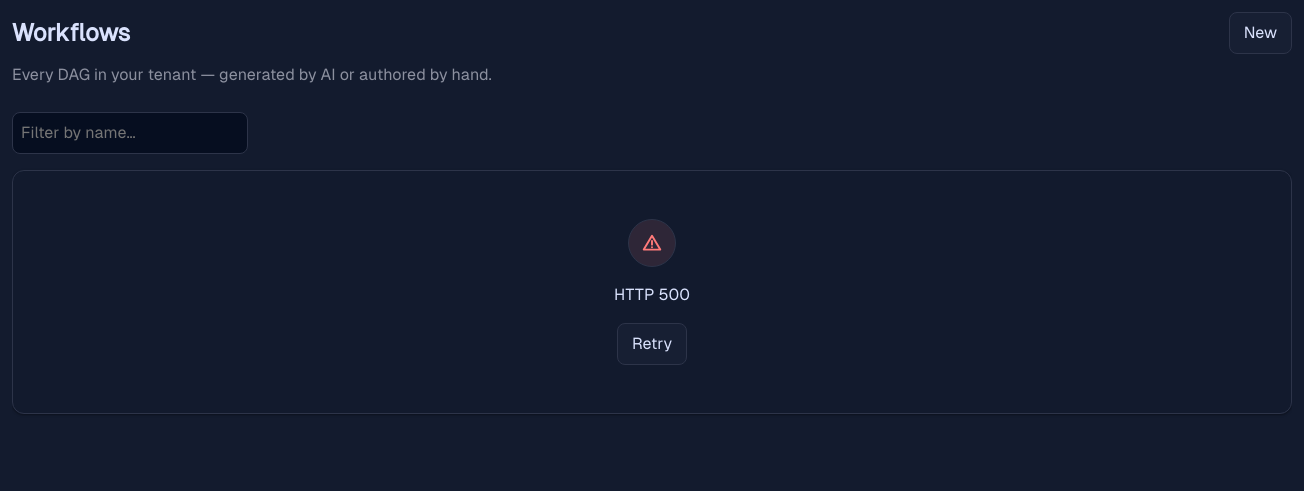
Test: WorkflowsPage › shows an error state and refetches on retry
Check: the message "HTTP 500 Retry" is shown, box x1=12 y1=170 x2=1292 y2=414
Click the button "Retry". click: (652, 344)
box: x1=617 y1=323 x2=687 y2=365
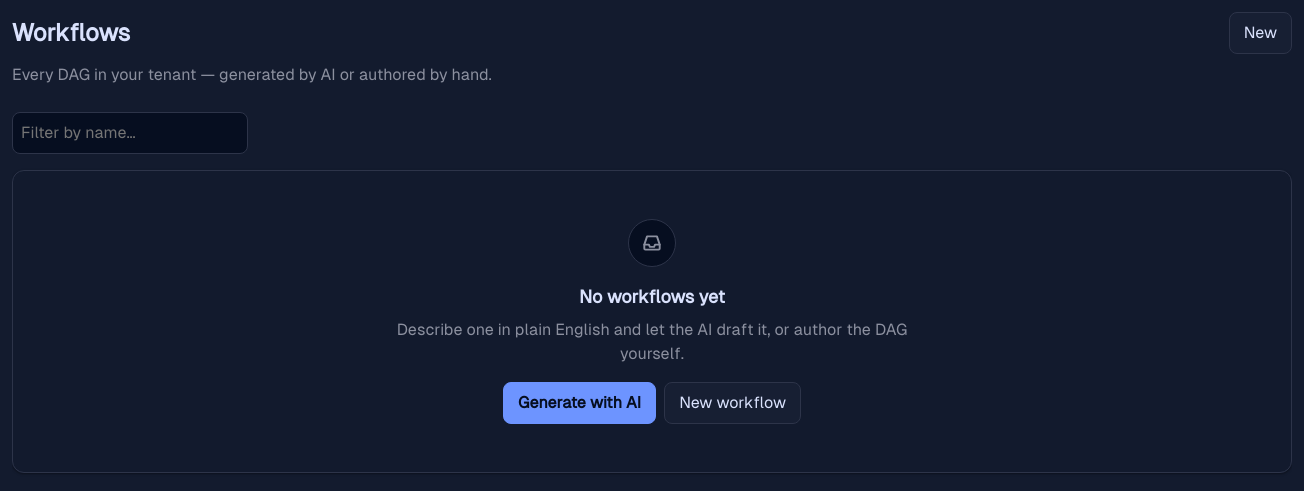
Check: the element with test id "empty-state" is shown
